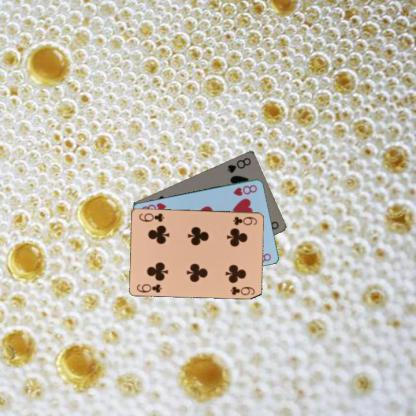6c: (135, 282, 163, 294), (231, 214, 258, 226)
8h: (231, 182, 258, 197)
8s: (225, 155, 252, 174)
